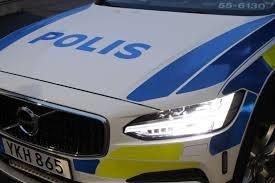license-plates: (0, 138, 72, 180)
